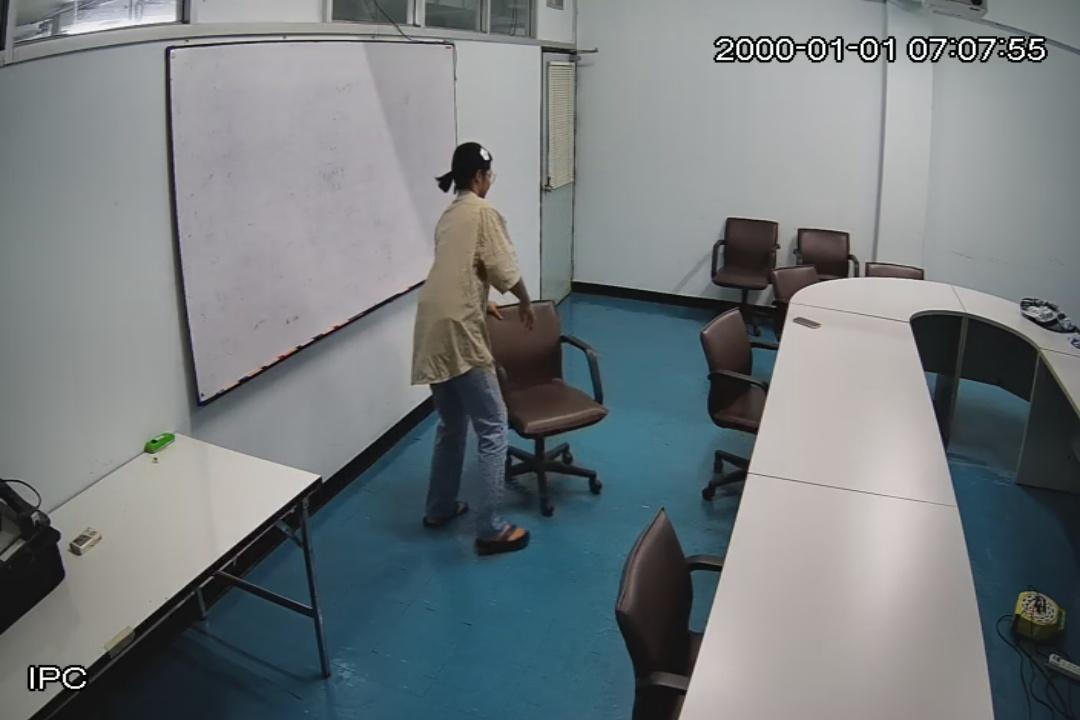normal: (402, 136, 530, 552)
